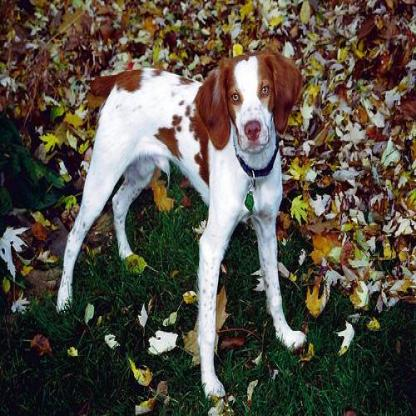Brittany_spaniel: (49, 47, 310, 406)
